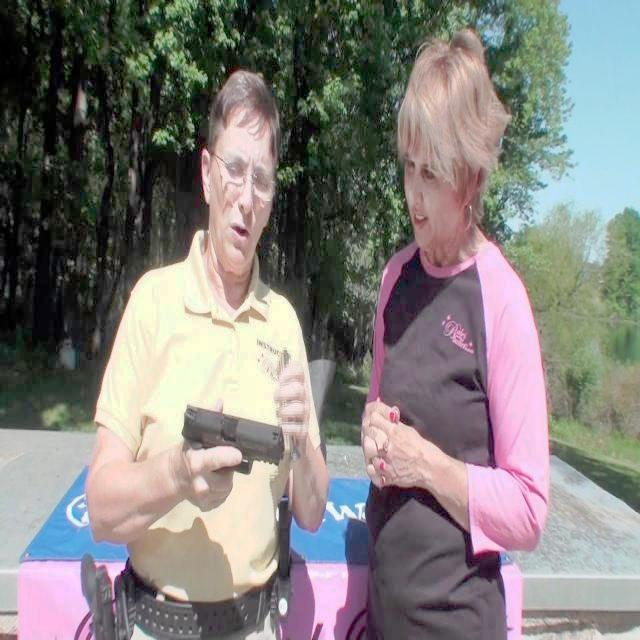Gun: (170, 395, 299, 502)
